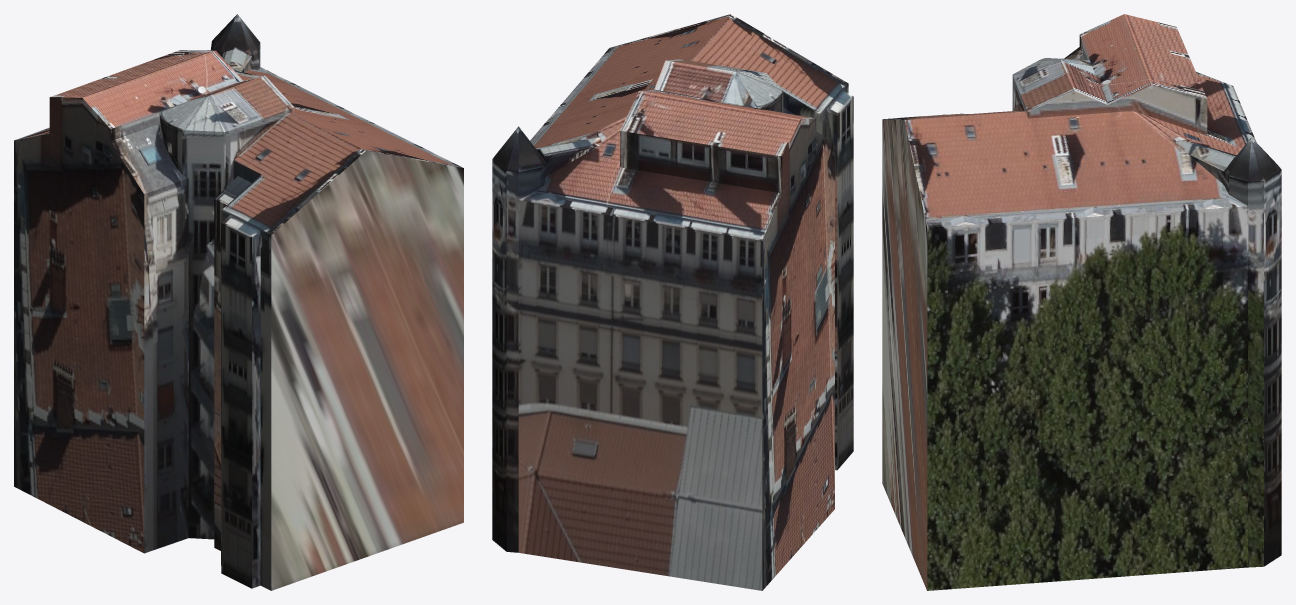
3 views of the same model, side by side, from view 1: azimuth 30°, elevation 25°; view 2: azimuth 150°, elevation 25°; view 3: azimuth 270°, elevation 25° (orthographic). The views are drawn at different scales.
Parts seen in each view (by area): view 1: Z_UP; view 2: Z_UP; view 3: Z_UP.
Part boxes in pixels (x1,y1,x2,y2): Z_UP: (14, 14, 463, 590); Z_UP: (492, 14, 853, 590); Z_UP: (882, 14, 1281, 590).
Bounding box in the file's own units: 21.4 × 28.97 × 24.02.
2 materials, 1 textured.
